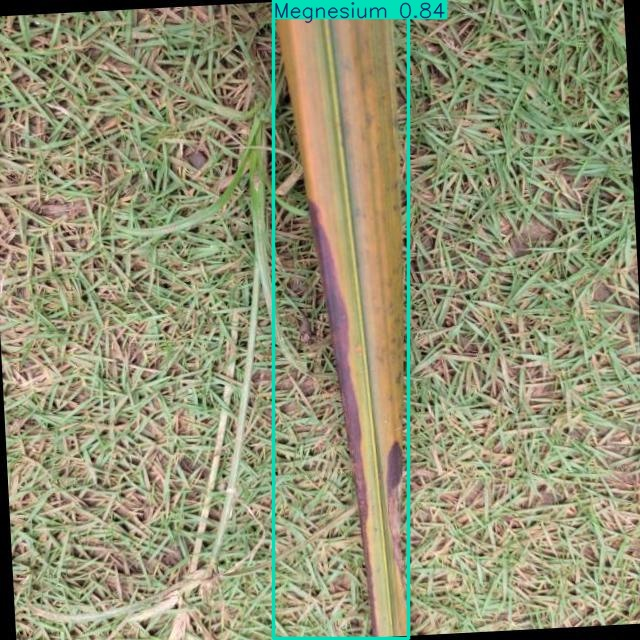Megnesium: (273, 1, 409, 638)
